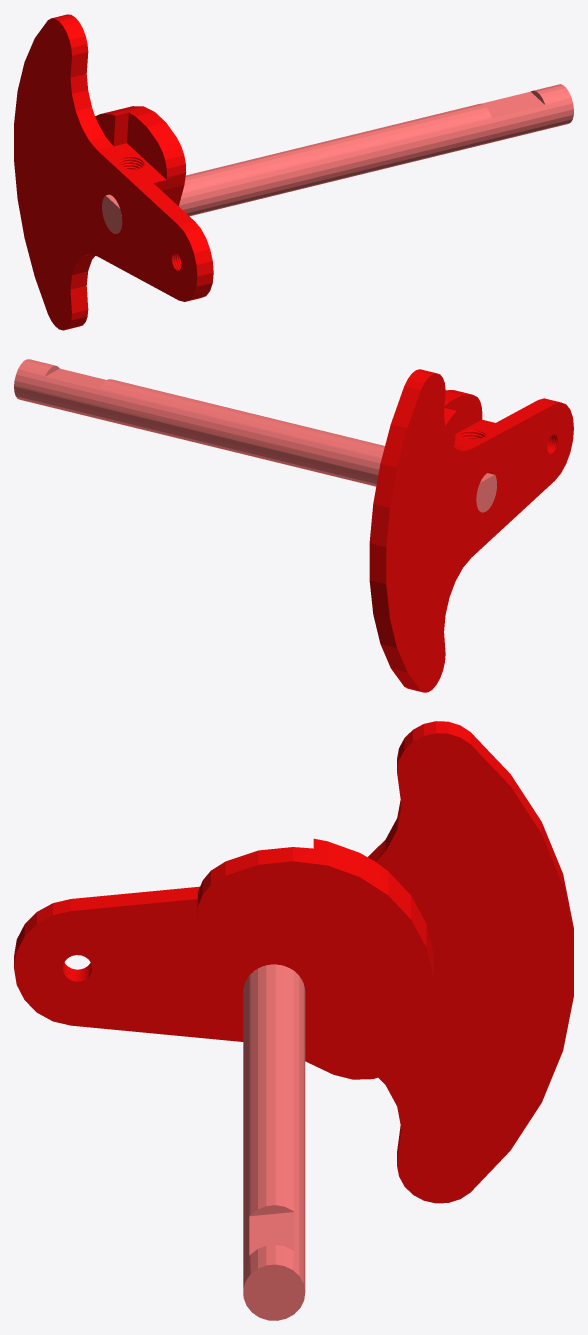
Rendered from crank_cam_subassembly.glb.
3 views of the same model, one above another, from view 1: azimuth 30°, elevation 25°; view 2: azimuth 150°, elevation 25°; view 3: azimuth 270°, elevation 25° (orthographic). The views are drawn at different scales.
Parts seen in each view (by area): view 1: Node1; view 2: Node1; view 3: Node1.
Part boxes in pixels (bbox=[...]): Node1: bbox=[14, 14, 573, 330]; Node1: bbox=[14, 359, 573, 692]; Node1: bbox=[14, 721, 573, 1320].
Size of the model in its own units: 40.48 by 26.38 by 28.47.
